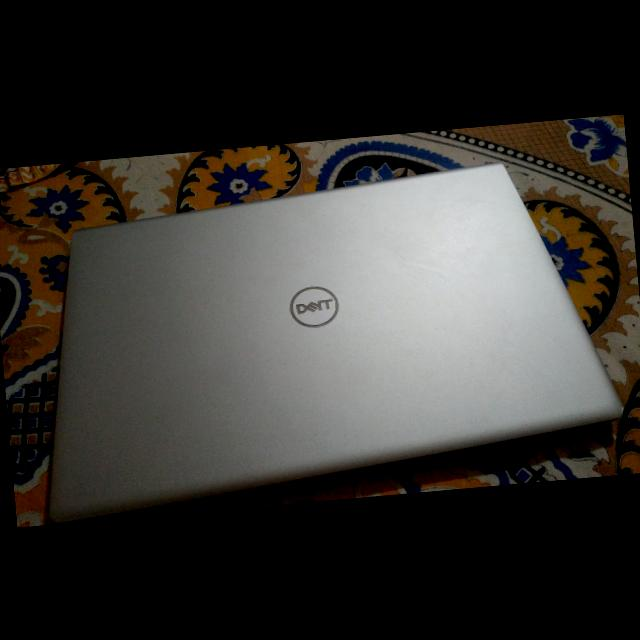laptop: (2, 146, 632, 519)
